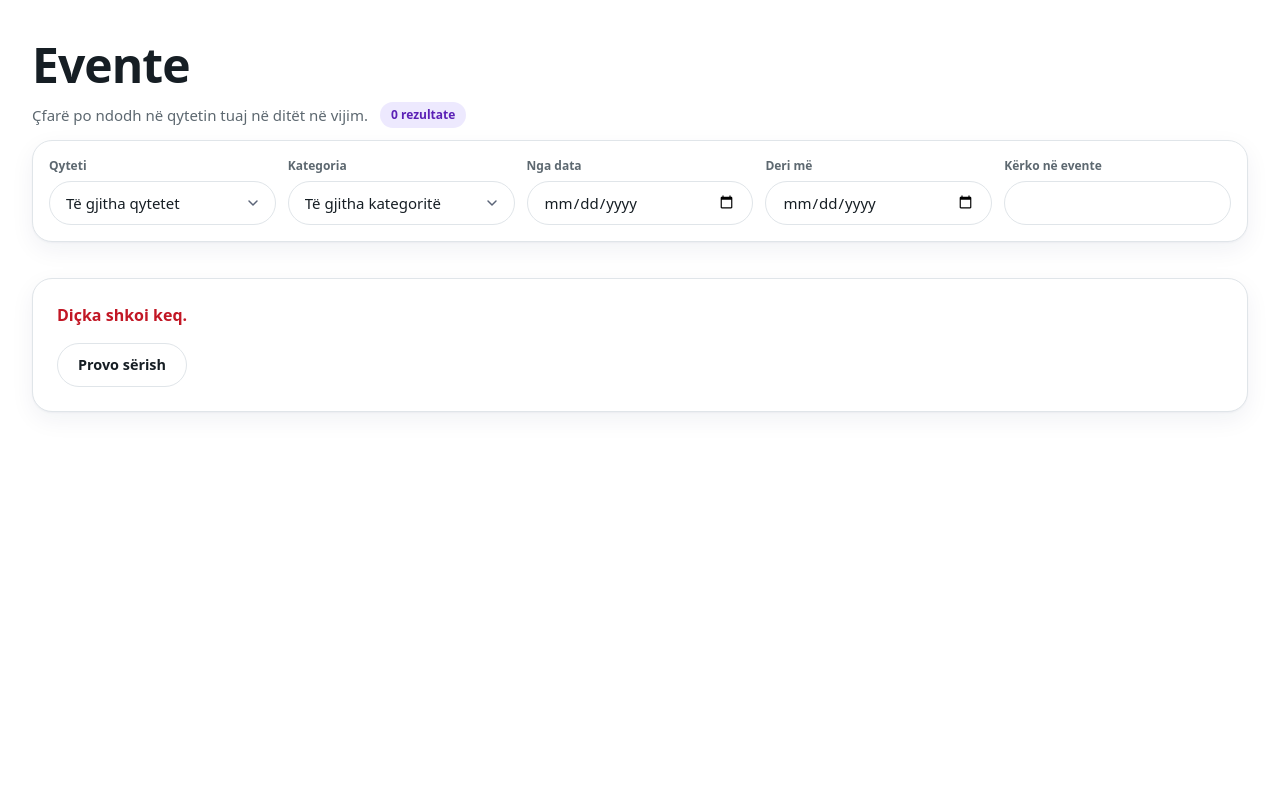
Test: list states › shows the error state and retries
expect the text "Diçka shkoi keq." is shown: met, box [57,303,187,327]
Click the button "Provo sërish".
click(122, 365)  # box [57,343,187,387]
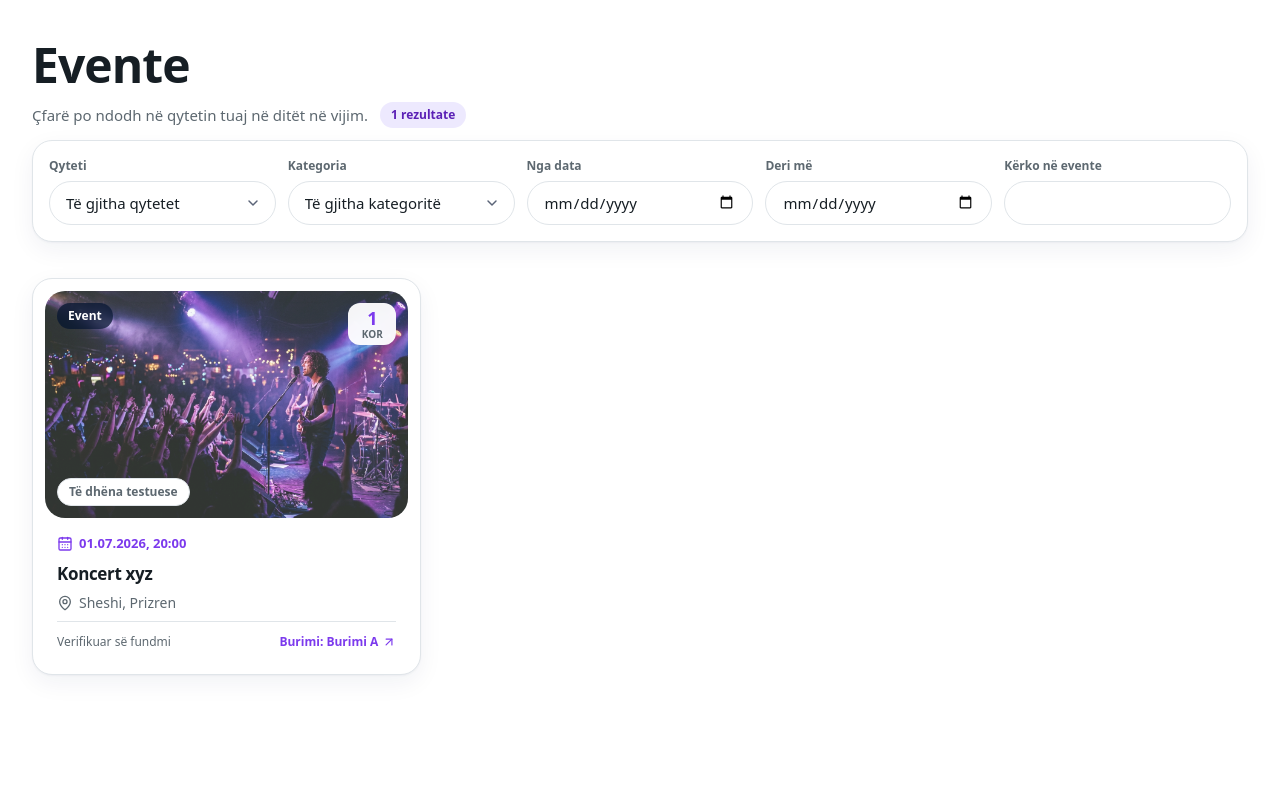
expect the heading "Koncert xyz" is shown: met, box [57,562,152,585]
expect the text "Diçka shkoi keq." is gone: met
